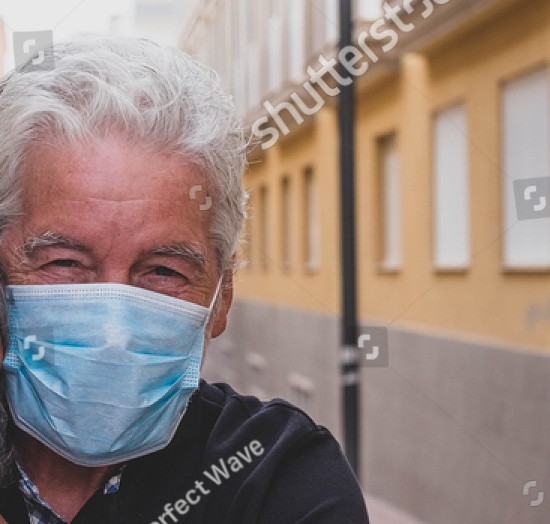with_mask: (3, 71, 254, 466)
